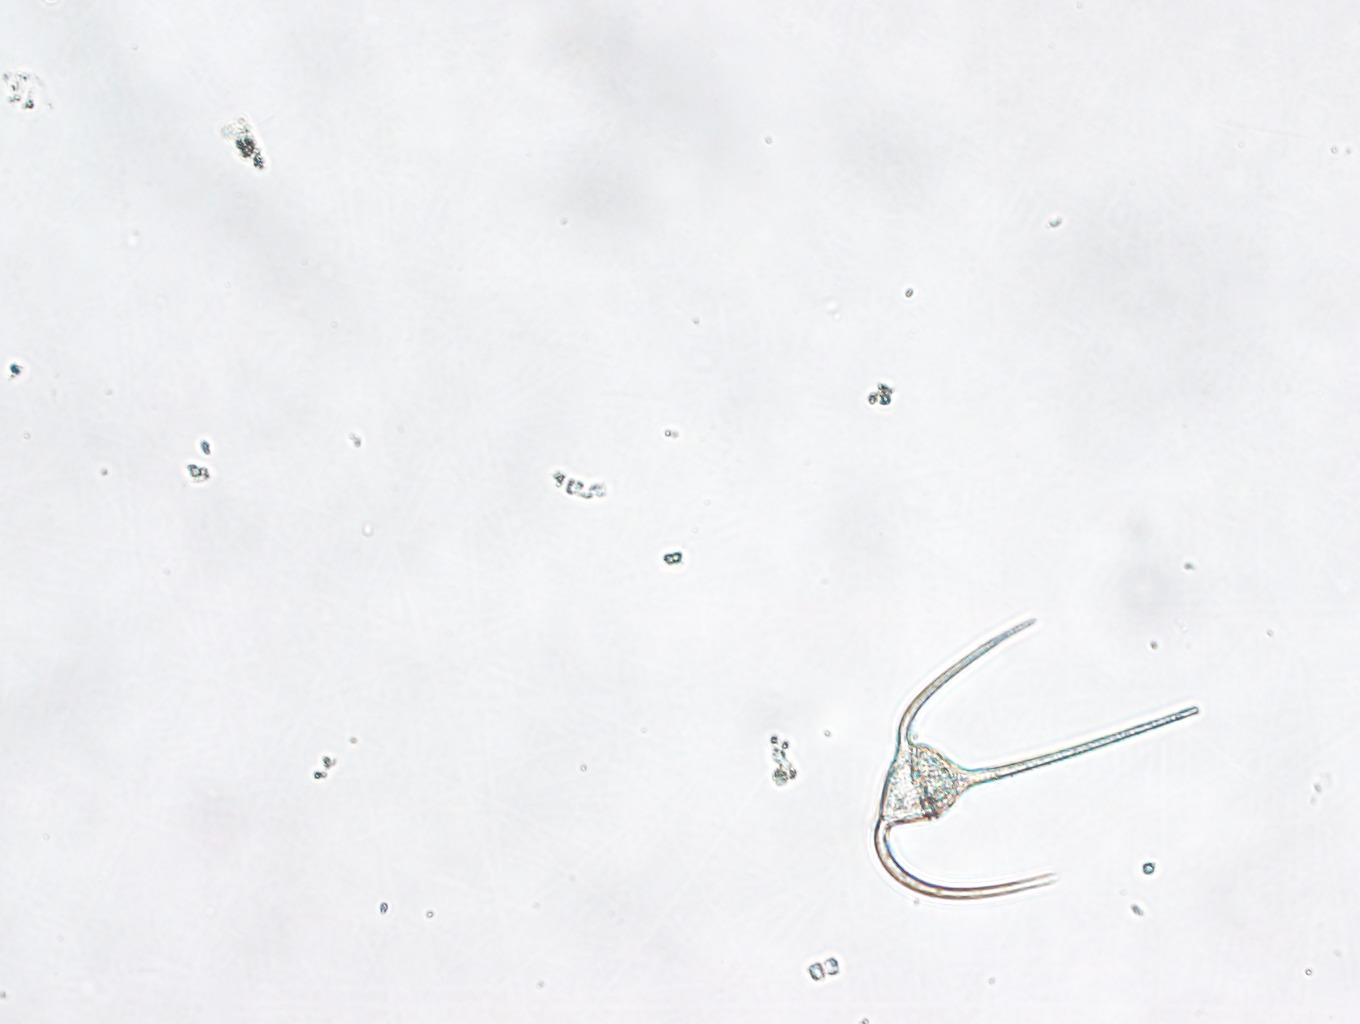ceratium trichoceros: (870, 615, 1199, 902)
